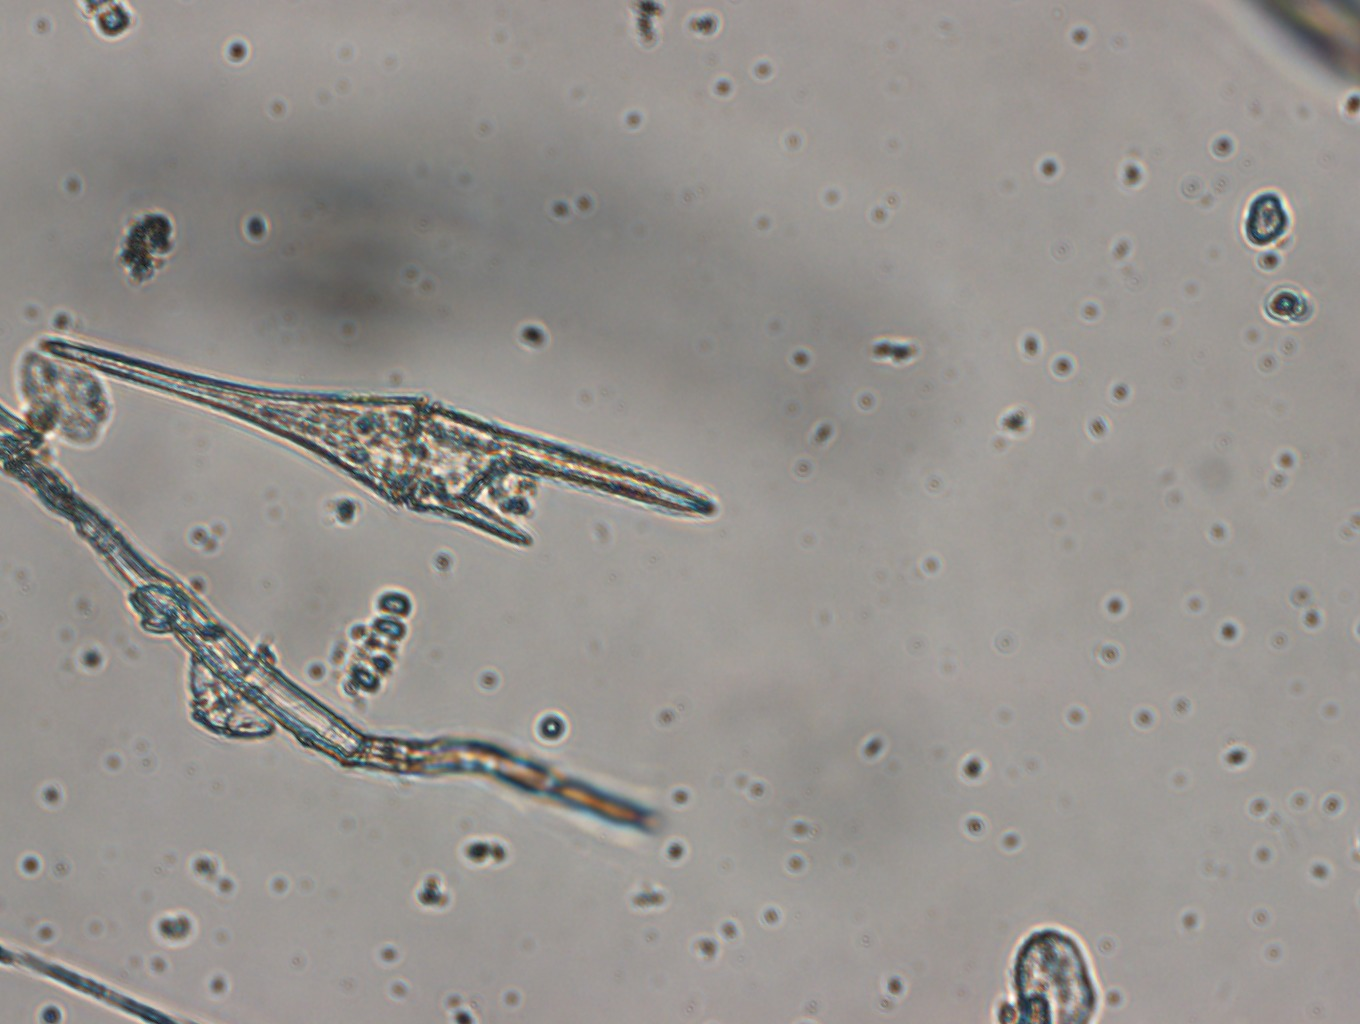ceratium furca: (33, 336, 730, 552)
